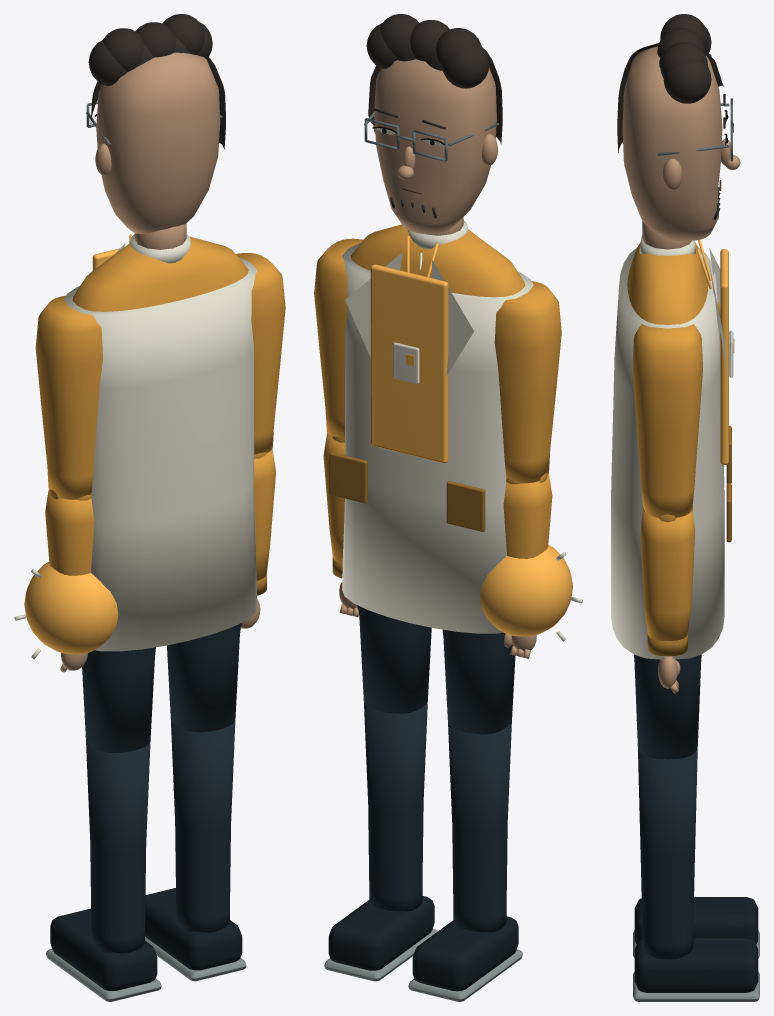
Rendered from npc_solar.glb.
3 renders of one model, left to right at view 1: azimuth 30°, elevation 25°; view 2: azimuth 150°, elevation 25°; view 3: azimuth 270°, elevation 25°, orthographic.
Parts seen in each view (by area): view 1: CoatLapel, AdultFace, Knee, Knee.001, Sleeve, QuietClothTorso, TrouserThigh, TrouserThigh.001, SolarModel, Eyebrow, Sleeve.001, OrdinaryShoe (+6 smaller); view 2: CoatLapel, AdultFace, IDPhoto, Knee.001, Knee, Sleeve, Eyebrow, TrouserThigh, QuietClothTorso, TrouserThigh.001, SolarModel, Sleeve.001 (+8 smaller); view 3: CoatLapel, AdultFace, Sleeve.001, Knee.001, ElbowTransition.001, OrdinaryShoe.001, TrouserThigh.001, QuietClothTorso, Eyebrow, OrdinaryShoe, IDPhoto, ShoeSole.001 (+5 smaller).
Part boxes in pixels (bbox=[...]): CoatLapel: bbox=[64, 234, 257, 651]; AdultFace: bbox=[95, 52, 220, 233]; Knee: bbox=[86, 740, 150, 953]; Knee.001: bbox=[170, 718, 235, 932]; Sleeve: bbox=[35, 295, 102, 499]; QuietClothTorso: bbox=[72, 236, 248, 311]; TrouserThigh: bbox=[82, 647, 155, 752]; TrouserThigh.001: bbox=[167, 623, 241, 732]; SolarModel: bbox=[24, 562, 118, 654]; Eyebrow: bbox=[88, 14, 225, 149]; Sleeve.001: bbox=[236, 253, 285, 454]; OrdinaryShoe: bbox=[50, 908, 157, 990]; CoatLapel: bbox=[342, 220, 533, 633]; AdultFace: bbox=[373, 59, 497, 234]; IDPhoto: bbox=[370, 236, 448, 463]; Knee.001: bbox=[364, 700, 427, 911]; Knee: bbox=[448, 721, 511, 931]; Sleeve: bbox=[494, 281, 561, 483]; Eyebrow: bbox=[366, 14, 502, 218]; TrouserThigh: bbox=[442, 629, 515, 734]; QuietClothTorso: bbox=[350, 224, 524, 297]; TrouserThigh.001: bbox=[358, 605, 431, 713]; SolarModel: bbox=[480, 545, 572, 636]; Sleeve.001: bbox=[314, 238, 362, 438]; CoatLapel: bbox=[611, 235, 733, 659]; AdultFace: bbox=[622, 46, 740, 240]; Sleeve.001: bbox=[632, 324, 702, 517]; Knee.001: bbox=[638, 748, 697, 959]; ElbowTransition.001: bbox=[640, 505, 694, 640]; OrdinaryShoe.001: bbox=[634, 938, 758, 992]; TrouserThigh.001: bbox=[634, 654, 701, 759]; QuietClothTorso: bbox=[627, 243, 708, 324]; Eyebrow: bbox=[617, 14, 725, 219]; OrdinaryShoe: bbox=[634, 897, 758, 944]; IDPhoto: bbox=[696, 239, 734, 464]; ShoeSole.001: bbox=[633, 971, 759, 1001].
Bounding box in the file's own units: 0.454 × 1.55 × 0.223.
